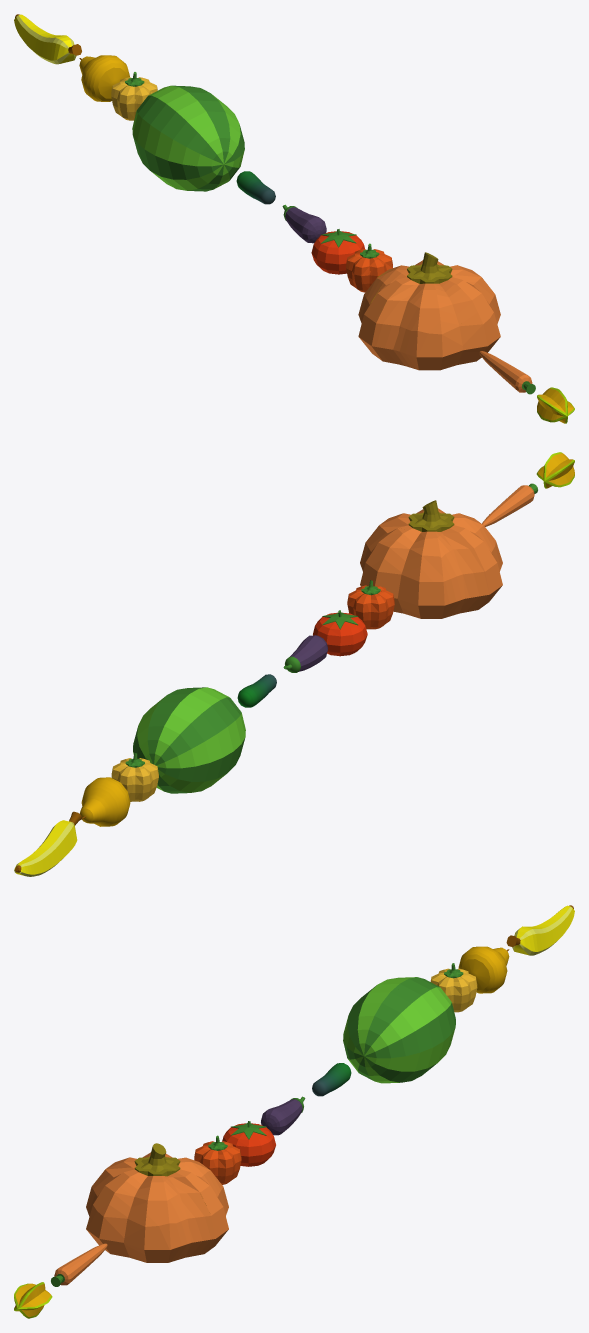
File: fruit.fbx
The picture shows the model from 3 angles, top to bottom: view 1: azimuth 30°, elevation 25°; view 2: azimuth 150°, elevation 25°; view 3: azimuth 330°, elevation 25°; orthographic projection.
Parts seen in each view (by area): view 1: polySurface268, polySurface265, polySurface253, polySurface256, polySurface252, polySurface263, polySurface267, polySurface257, polySurface262, polySurface366, polySurface260, polySurface365 (+11 smaller); view 2: polySurface234, polySurface235, polySurface246, polySurface247, polySurface237, polySurface243, polySurface240, polySurface242, polySurface250, polySurface322, polySurface307, polySurface320 (+5 smaller); view 3: polySurface268, polySurface265, polySurface253, polySurface256, polySurface252, polySurface263, polySurface267, polySurface257, polySurface366, polySurface262, polySurface260, polySurface365 (+11 smaller).
Part boxes in pixels (<box>): polySurface268: <box>417,312,499,369</box>; polySurface265: <box>411,302,500,370</box>; polySurface253: <box>369,272,500,362</box>; polySurface256: <box>376,275,499,364</box>; polySurface252: <box>366,255,481,360</box>; polySurface263: <box>405,295,493,370</box>; polySurface267: <box>432,324,492,361</box>; polySurface257: <box>384,279,498,365</box>; polySurface262: <box>399,288,490,369</box>; polySurface366: <box>204,144,237,179</box>; polySurface260: <box>393,283,489,367</box>; polySurface365: <box>197,138,241,183</box>; polySurface234: <box>362,559,440,615</box>; polySurface235: <box>360,547,449,618</box>; polySurface246: <box>360,521,489,612</box>; polySurface247: <box>361,504,493,610</box>; polySurface237: <box>368,540,456,618</box>; polySurface243: <box>361,524,479,614</box>; polySurface240: <box>370,533,462,617</box>; polySurface242: <box>370,528,469,616</box>; polySurface250: <box>382,501,496,607</box>; polySurface322: <box>133,713,209,793</box>; polySurface307: <box>140,746,173,781</box>; polySurface320: <box>133,717,205,792</box>; polySurface268: <box>86,1205,169,1262</box>; polySurface265: <box>86,1194,175,1262</box>; polySurface253: <box>86,1164,217,1255</box>; polySurface256: <box>86,1167,211,1256</box>; polySurface252: <box>105,1145,221,1252</box>; polySurface263: <box>93,1187,181,1262</box>; polySurface267: <box>94,1217,154,1254</box>; polySurface257: <box>88,1171,202,1258</box>; polySurface366: <box>350,1036,383,1071</box>; polySurface262: <box>95,1181,187,1261</box>; polySurface260: <box>96,1175,194,1259</box>; polySurface365: <box>346,1029,390,1075</box>.
Bounding box in the file's own units: 6.97 × 5.59 × 51.49.
1 material, 1 textured.
